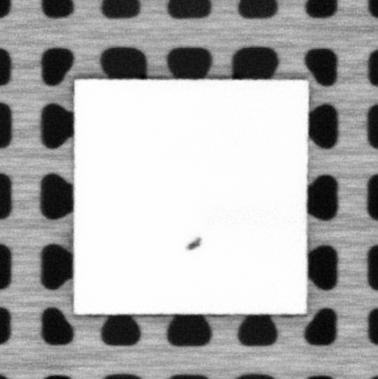DIE_INK: (184, 236, 203, 251)
